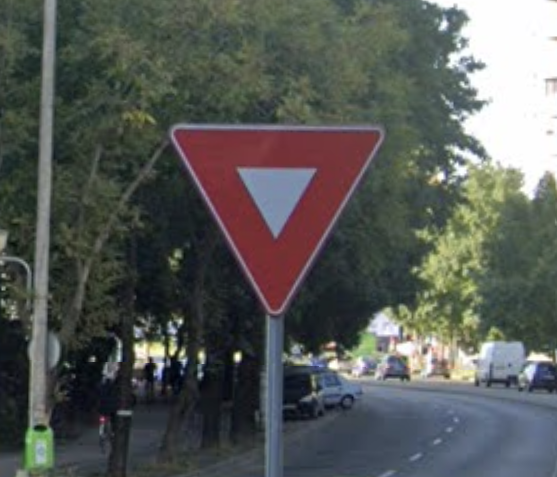cedeaza: (162, 114, 389, 320)
